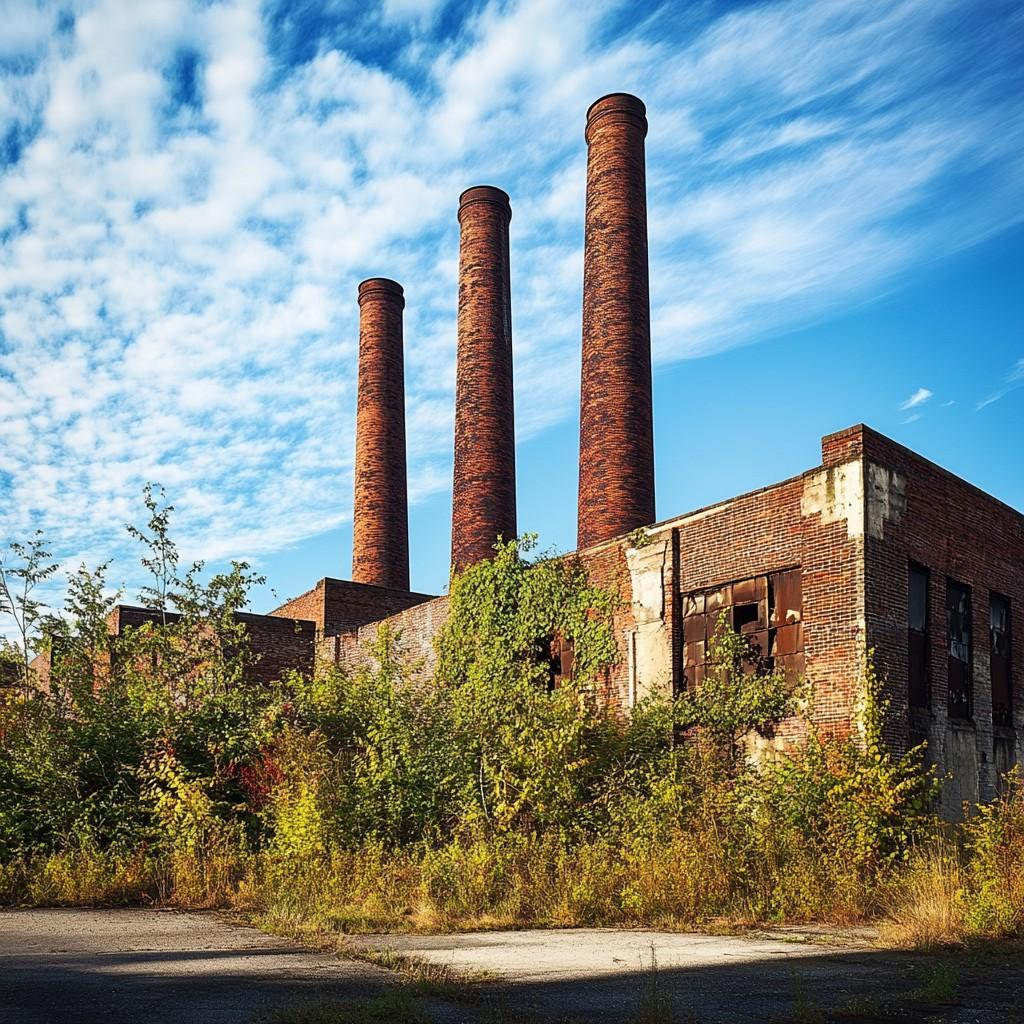overgrown grass: (265, 550, 1018, 930), (891, 843, 1024, 971)
